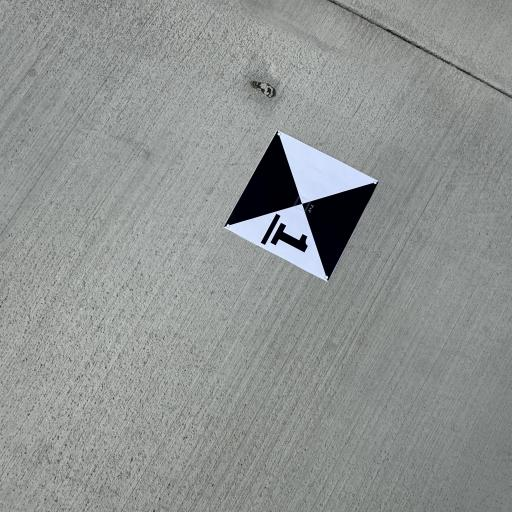target1: (219, 122, 385, 287)
